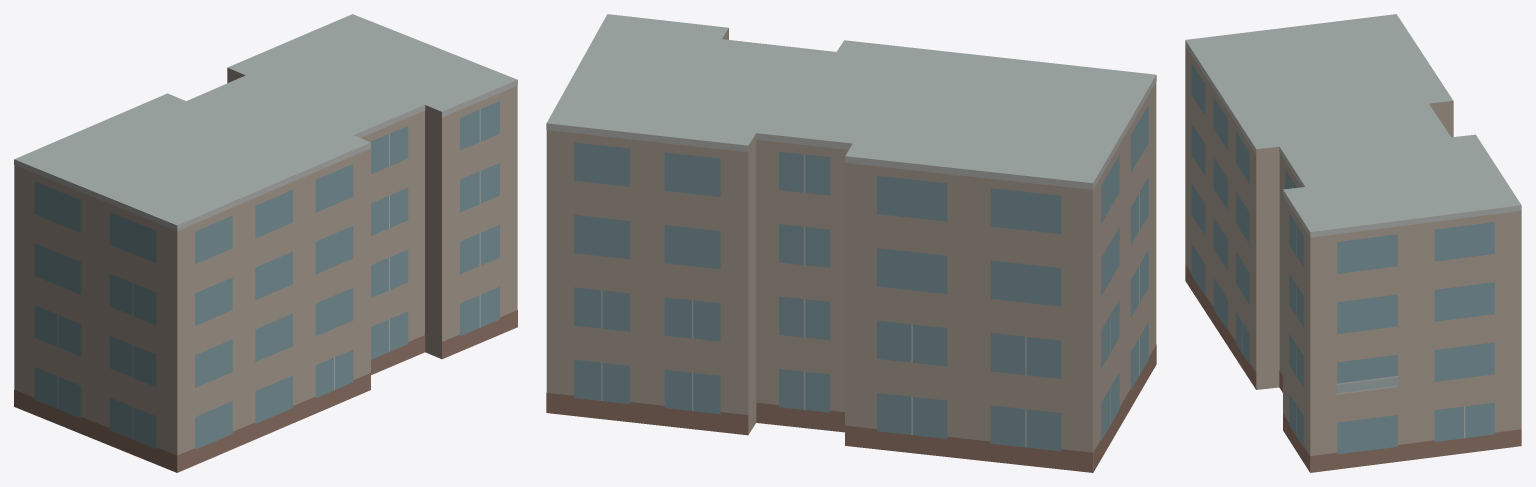
The model's file is survey-upis-32526978.glb.
3 views of the same model, side by side, from view 1: azimuth 30°, elevation 25°; view 2: azimuth 150°, elevation 25°; view 3: azimuth 270°, elevation 25° (orthographic). The views are drawn at different scales.
Parts seen in each view (by area): view 1: survey-upis-32526978.tmp; view 2: survey-upis-32526978.tmp; view 3: survey-upis-32526978.tmp.
Boxes of the visible parts, x1,y1,x2,y2 form: survey-upis-32526978.tmp: [14, 14, 517, 472]; survey-upis-32526978.tmp: [546, 14, 1156, 472]; survey-upis-32526978.tmp: [1185, 14, 1521, 472].
Size of the model in its own units: 20.52 by 10.56 by 13.38.
